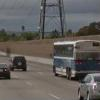Bus: (47, 33, 97, 78)
